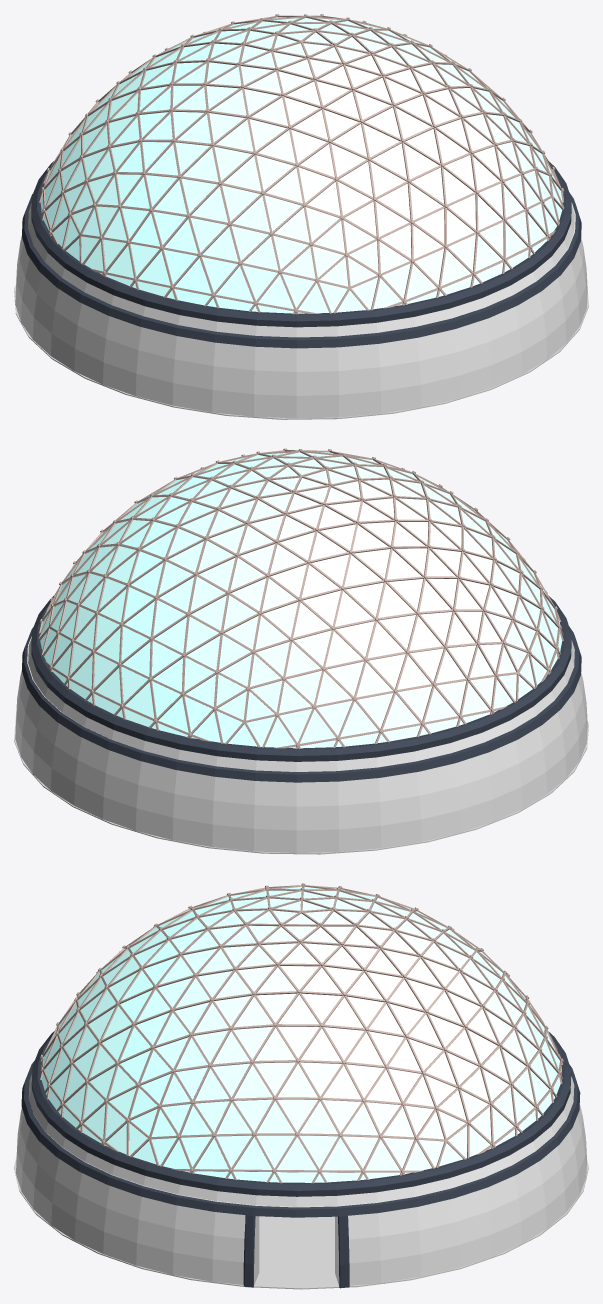
The model's file is Dome_HQ_231006.fbx.
The picture shows the model from 3 angles, top to bottom: view 1: azimuth 30°, elevation 25°; view 2: azimuth 150°, elevation 25°; view 3: azimuth 270°, elevation 25°; orthographic projection.
Visible parts, largest first — view 1: Dome_Middle_Outside, Dome-Middle-Wall, Dome_HQ_Floor; view 2: Dome_Middle_Outside, Dome-Middle-Wall, Dome_HQ_Floor; view 3: Dome_Middle_Outside, Dome-Middle-Wall, Dome_HQ_Floor.
Part boxes in pixels (left/top/right/bottom): Dome_Middle_Outside: left=39, top=14, right=564, bottom=314; Dome-Middle-Wall: left=15, top=161, right=587, bottom=418; Dome_HQ_Floor: left=14, top=285, right=588, bottom=419; Dome_Middle_Outside: left=38, top=448, right=563, bottom=748; Dome-Middle-Wall: left=15, top=596, right=587, bottom=852; Dome_HQ_Floor: left=14, top=716, right=588, bottom=854; Dome_Middle_Outside: left=39, top=883, right=563, bottom=1283; Dome-Middle-Wall: left=16, top=1031, right=586, bottom=1288; Dome_HQ_Floor: left=14, top=1156, right=588, bottom=1289.
Bounding box in the file's own units: 2044 × 1012 × 2044.
